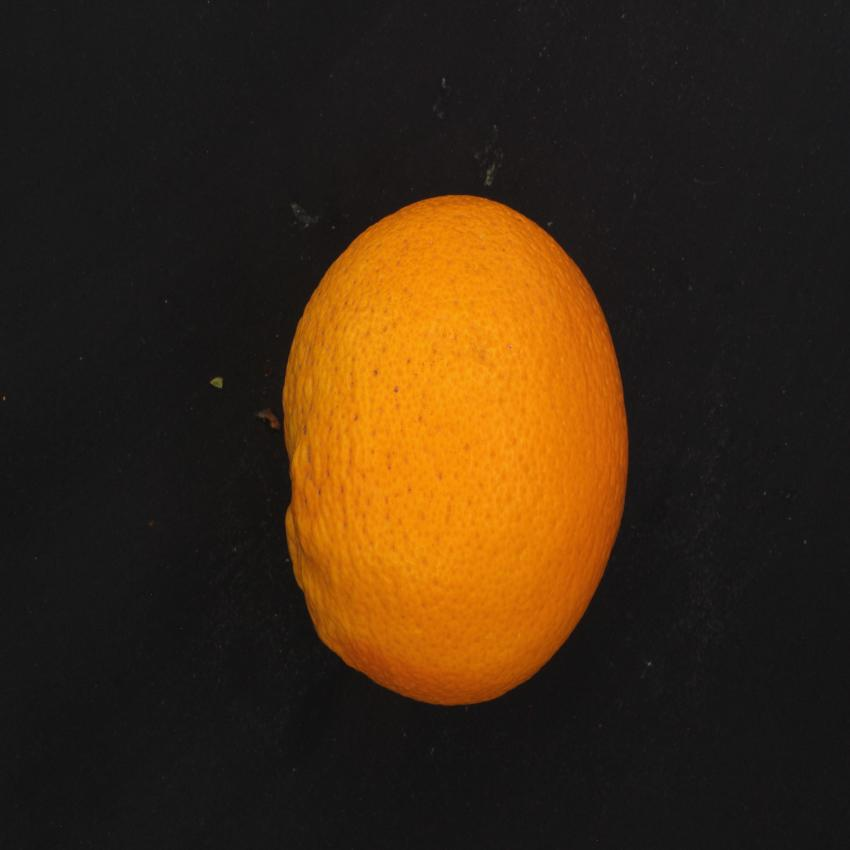Buen estado: (267, 181, 639, 719)
